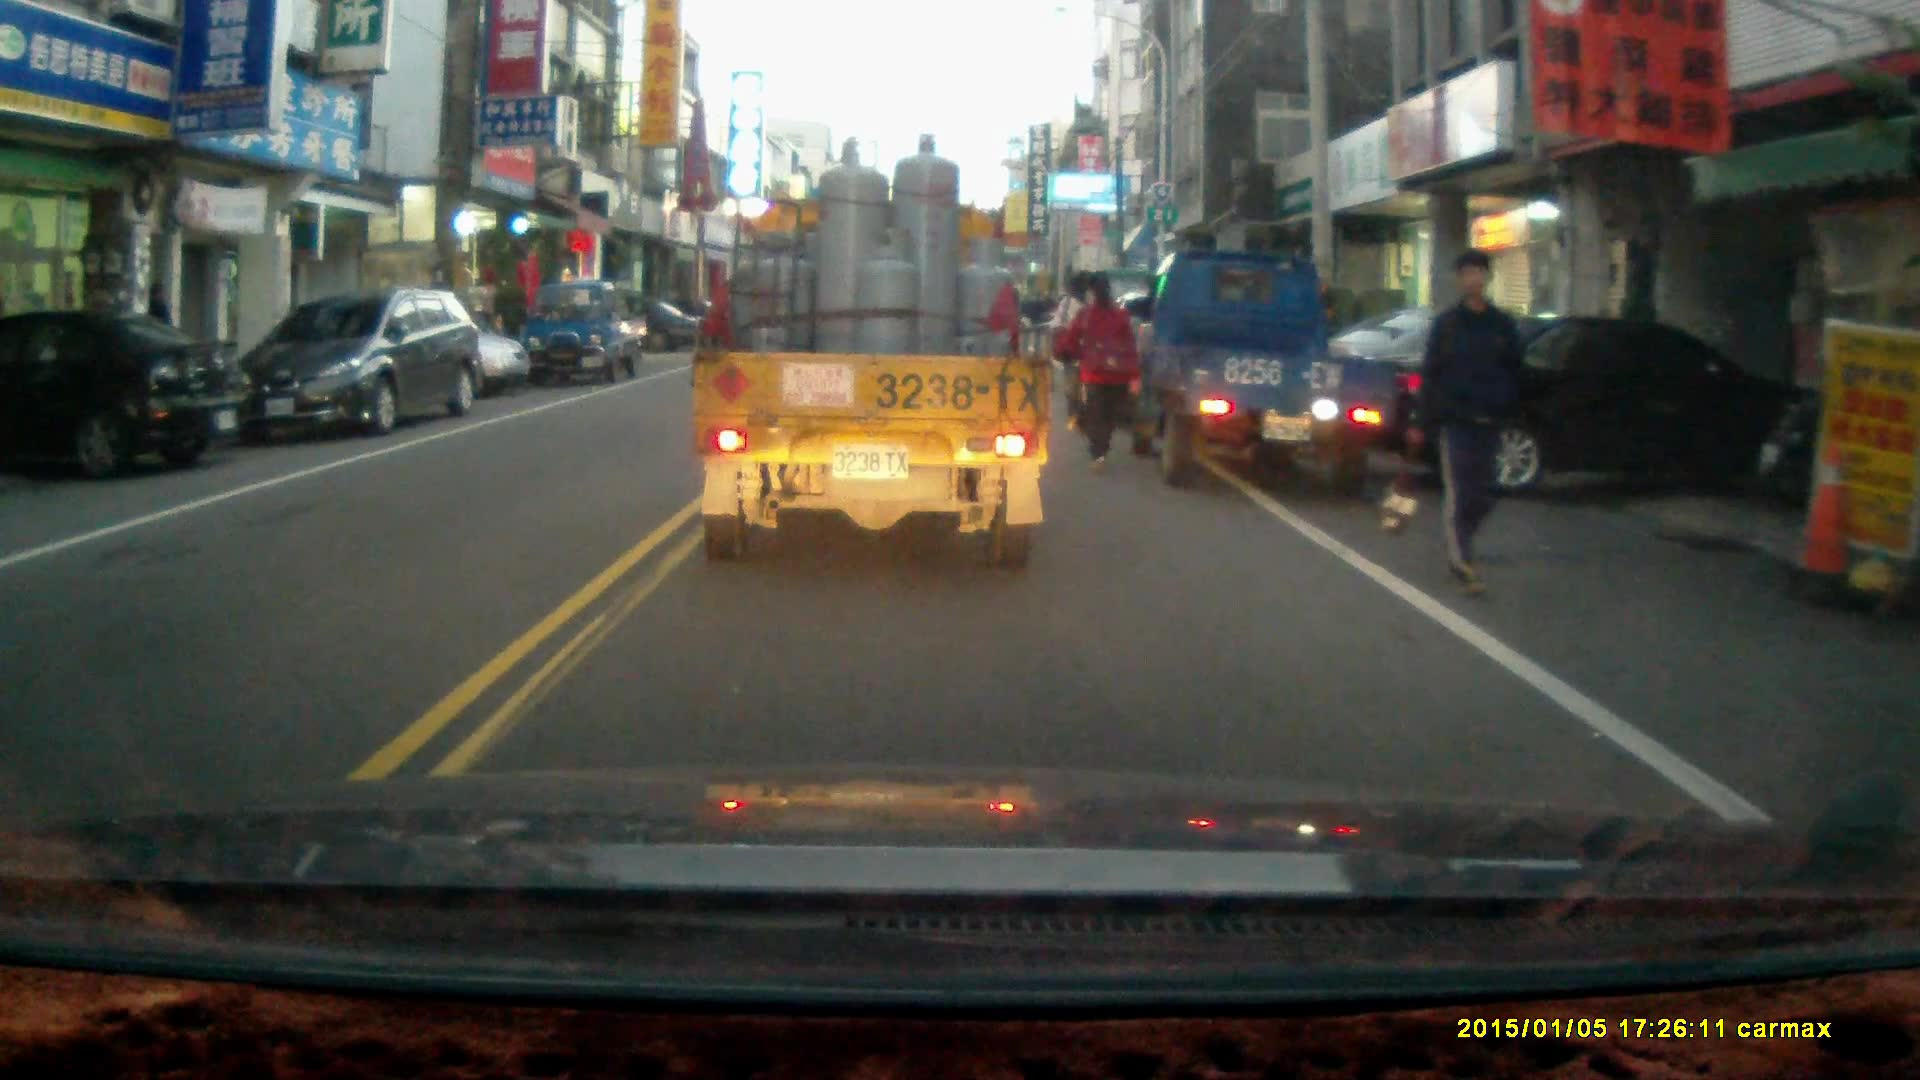pedestrian: (1407, 245, 1529, 601), (1059, 262, 1134, 464), (141, 280, 179, 374)
vehicle: (689, 136, 1057, 573), (1137, 250, 1403, 490), (1, 306, 249, 482), (224, 282, 491, 442), (257, 296, 537, 401), (525, 277, 652, 386)
